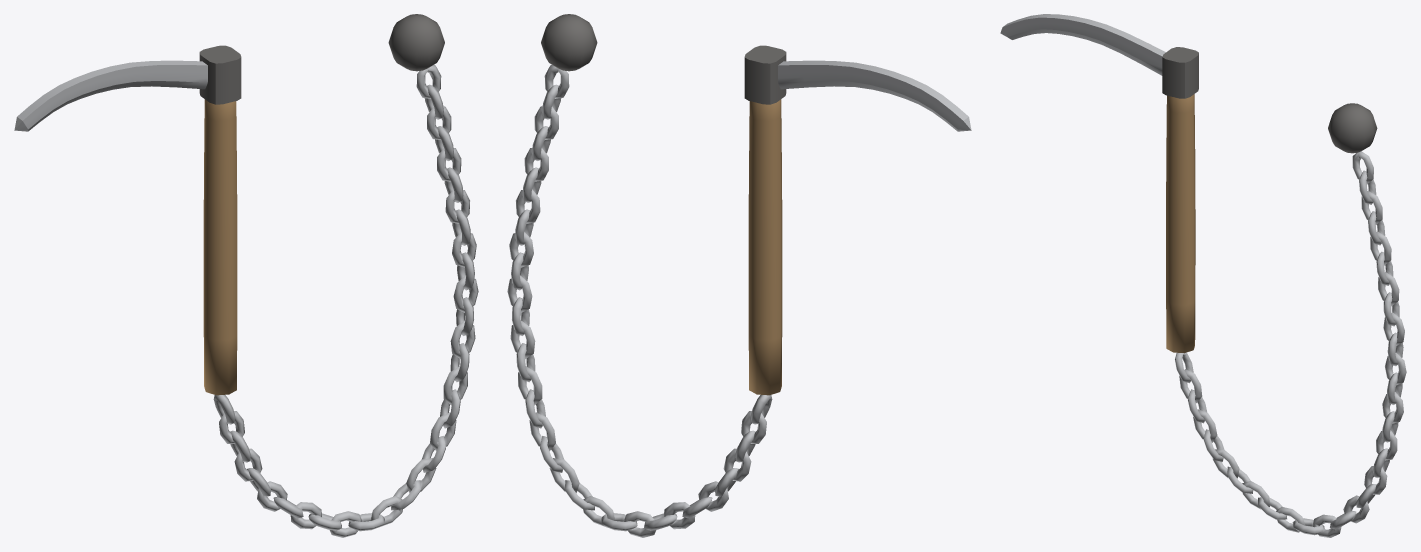
The model's file is kusarigama.glb.
3 views of the same model, side by side, from view 1: azimuth 30°, elevation 25°; view 2: azimuth 150°, elevation 25°; view 3: azimuth 330°, elevation 25° (orthographic). The views are drawn at different scales.
Visible parts, largest first — view 1: kusarigama; view 2: kusarigama; view 3: kusarigama.
Part boxes in pixels (bbox=[...]): kusarigama: bbox=[14, 14, 478, 537]; kusarigama: bbox=[507, 14, 971, 537]; kusarigama: bbox=[1000, 14, 1406, 537].
Size of the model in its own units: 0.9459 by 1.02 by 0.1.
